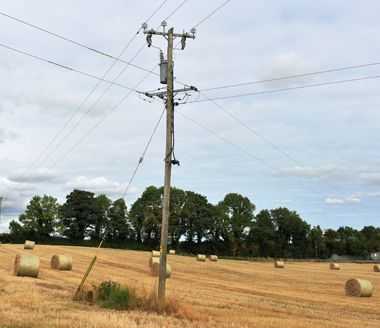utility_pole: (132, 10, 204, 122)
